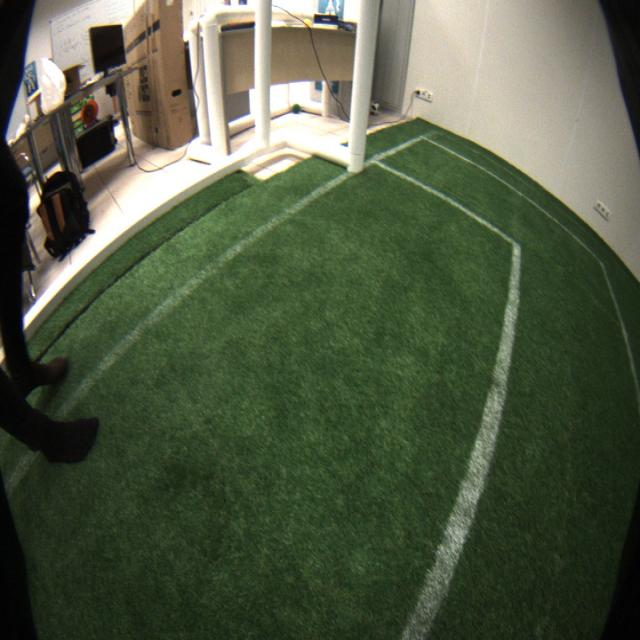goalpost: (346, 2, 381, 170)
